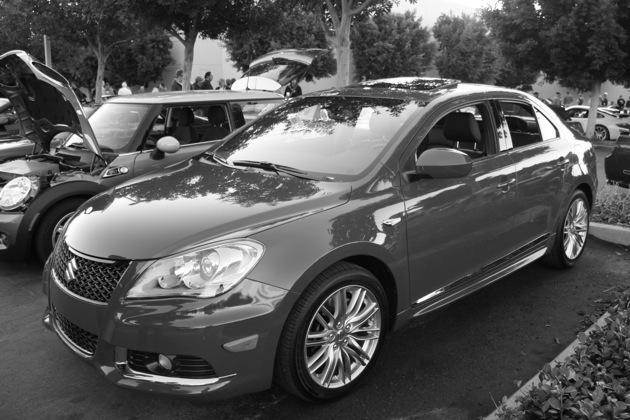car: (42, 78, 598, 405)
